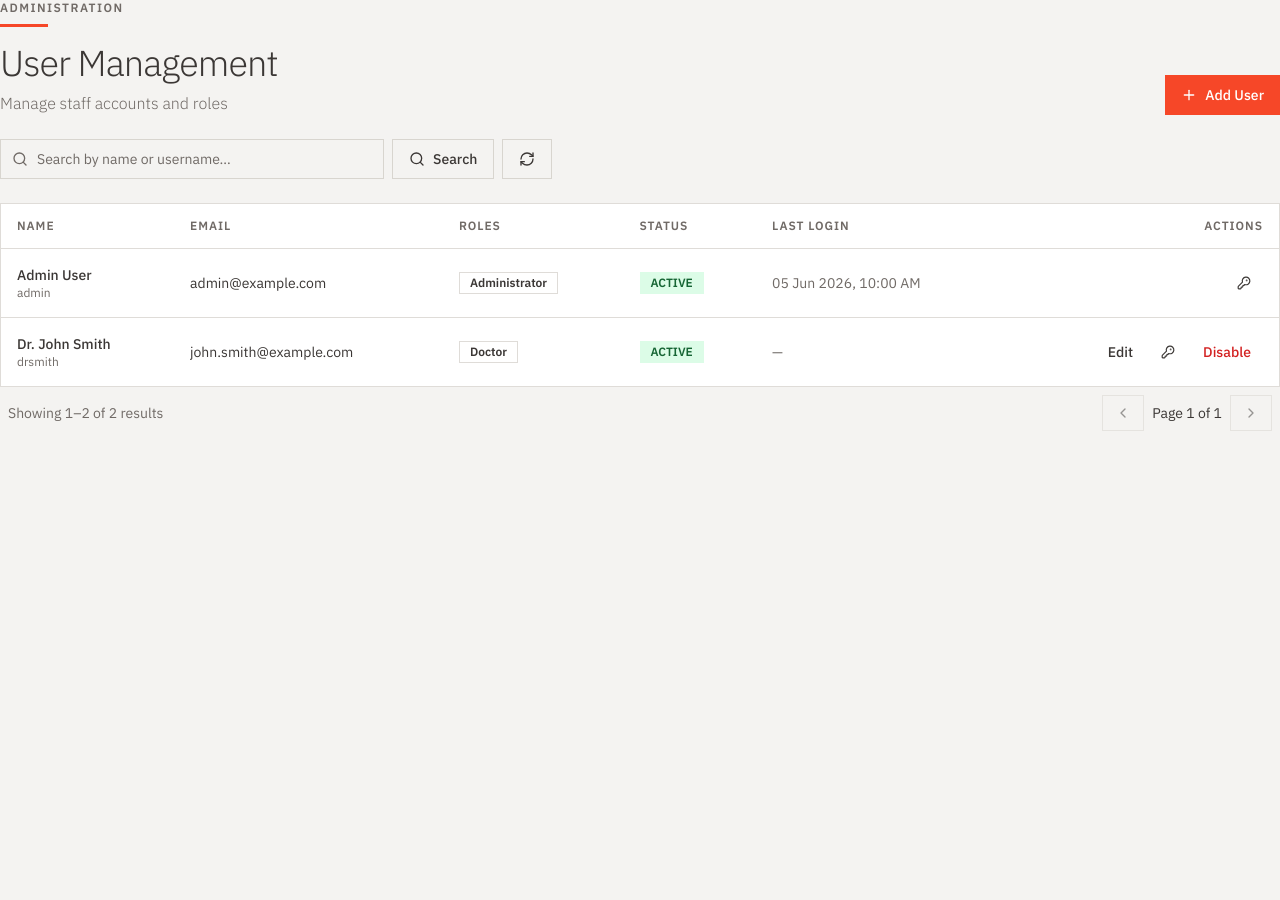
Test: UsersListPage › opens Reset Password dialog when key icon is clicked
Expected: the text "Admin User" is shown, [17,266,92,284]
Click the button named "reset password for admin user" at point(1244, 282), box [1225,264,1263,300]
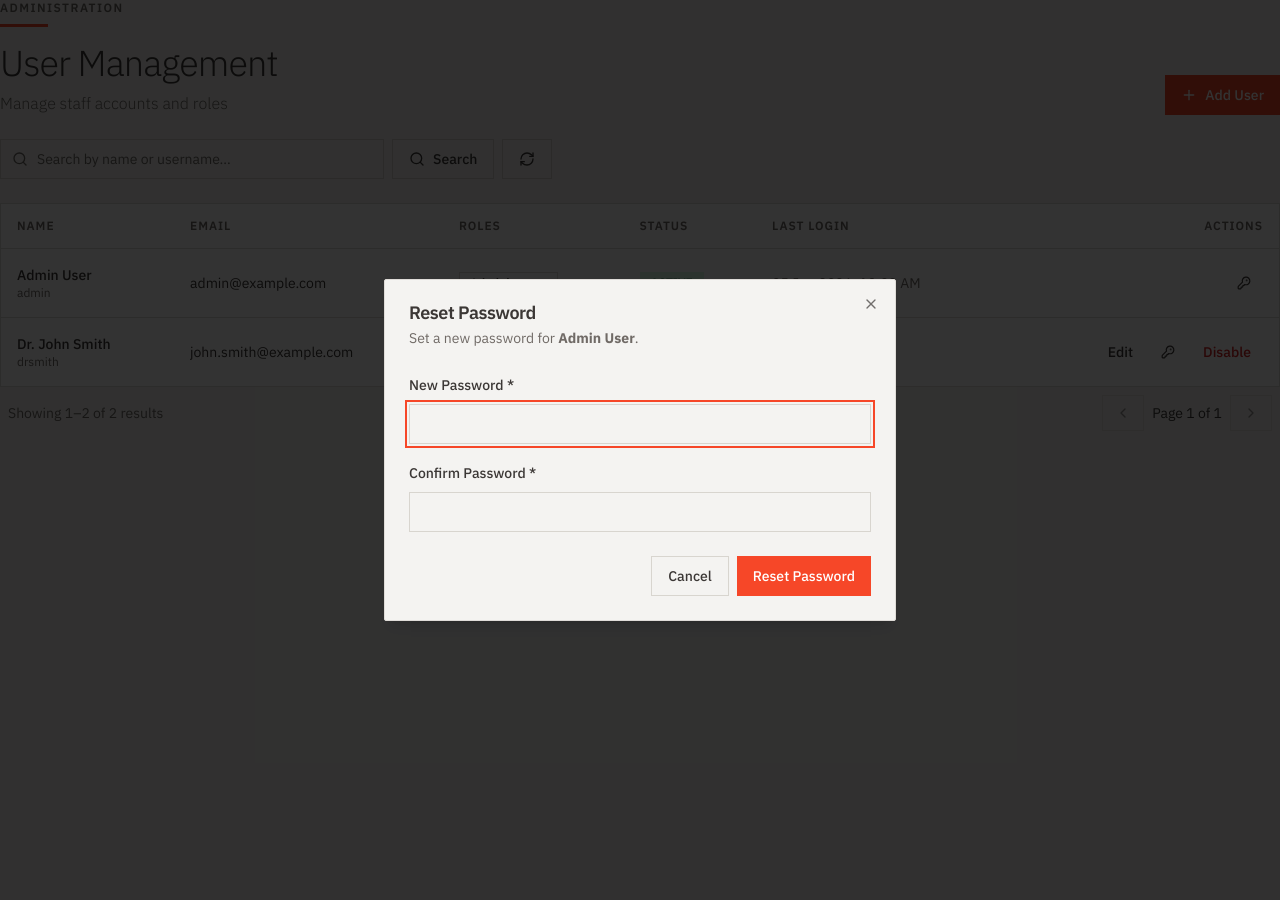
Result: the dialog "Reset Password" is shown at [384,279,896,621]
